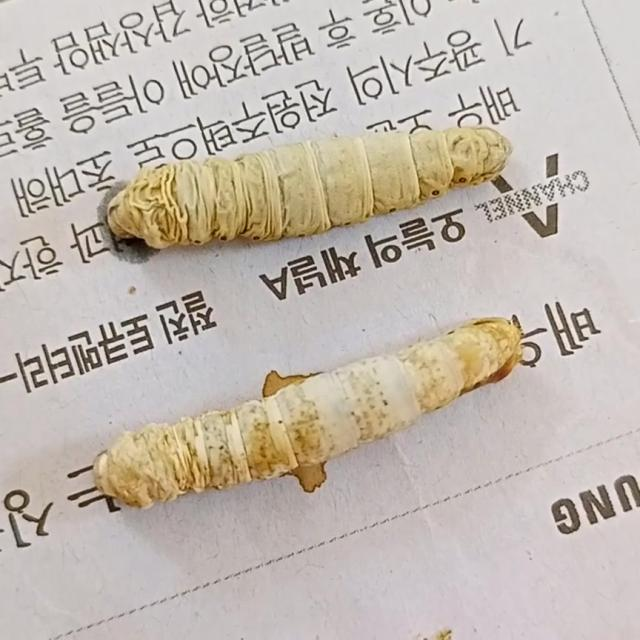Grasserie: (66, 307, 544, 520), (94, 96, 541, 280)
